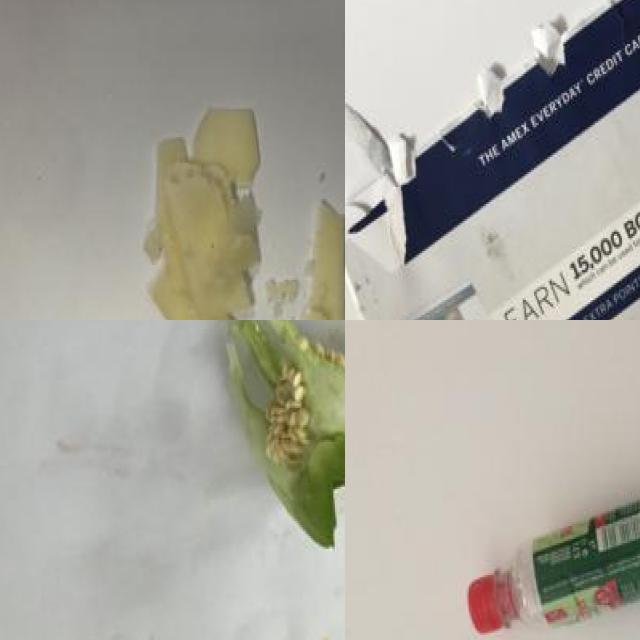compost: (134, 91, 345, 320), (196, 320, 345, 570)
paper: (368, 0, 640, 320)
plastic: (468, 492, 640, 640)
